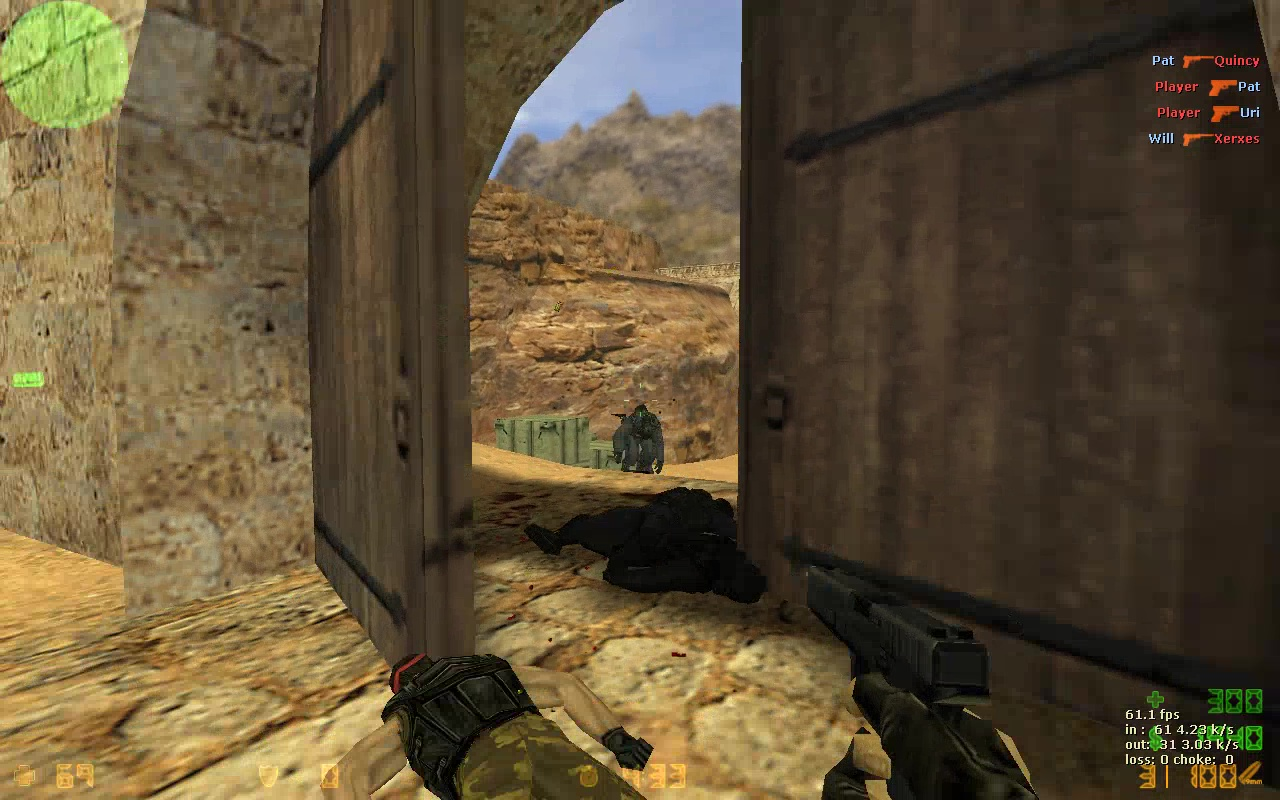ct: (606, 411, 668, 468)
dead: (286, 647, 659, 799), (517, 486, 765, 612)
